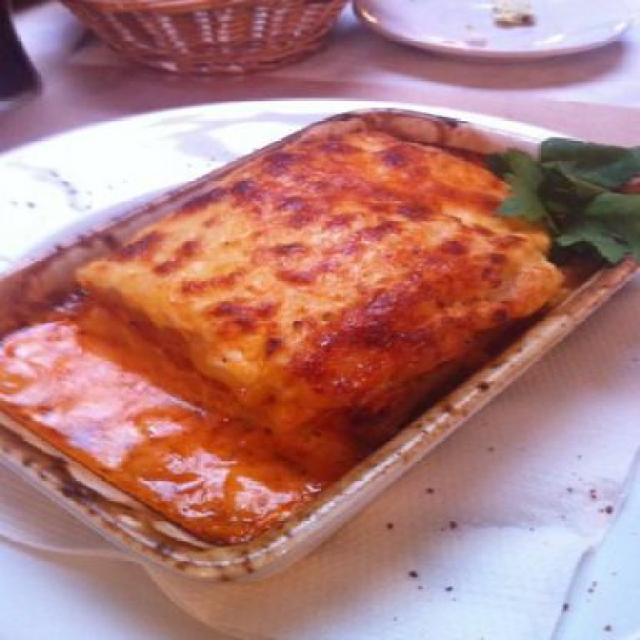Lasagna: (55, 115, 596, 467)
